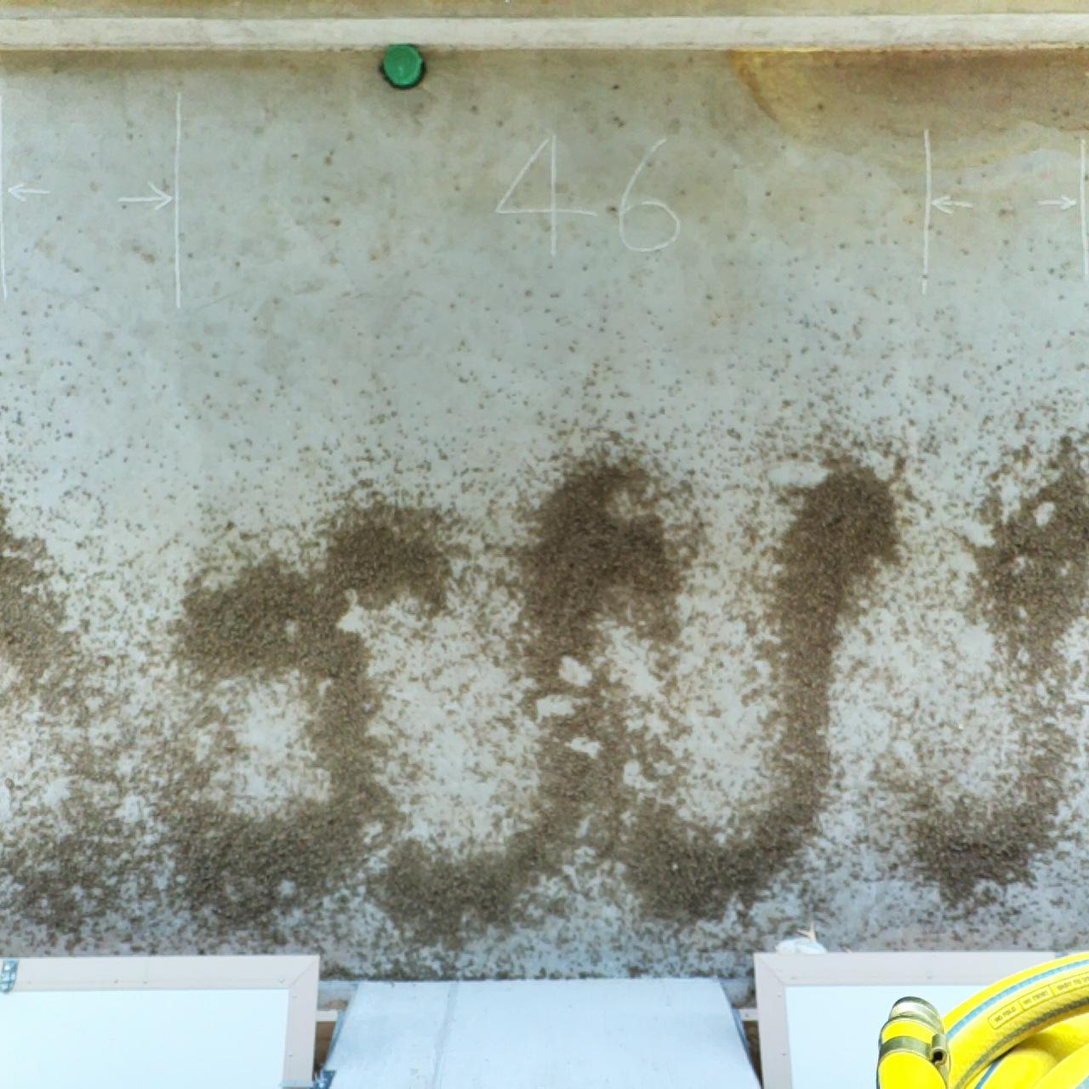chicken: (769, 914, 828, 959)
